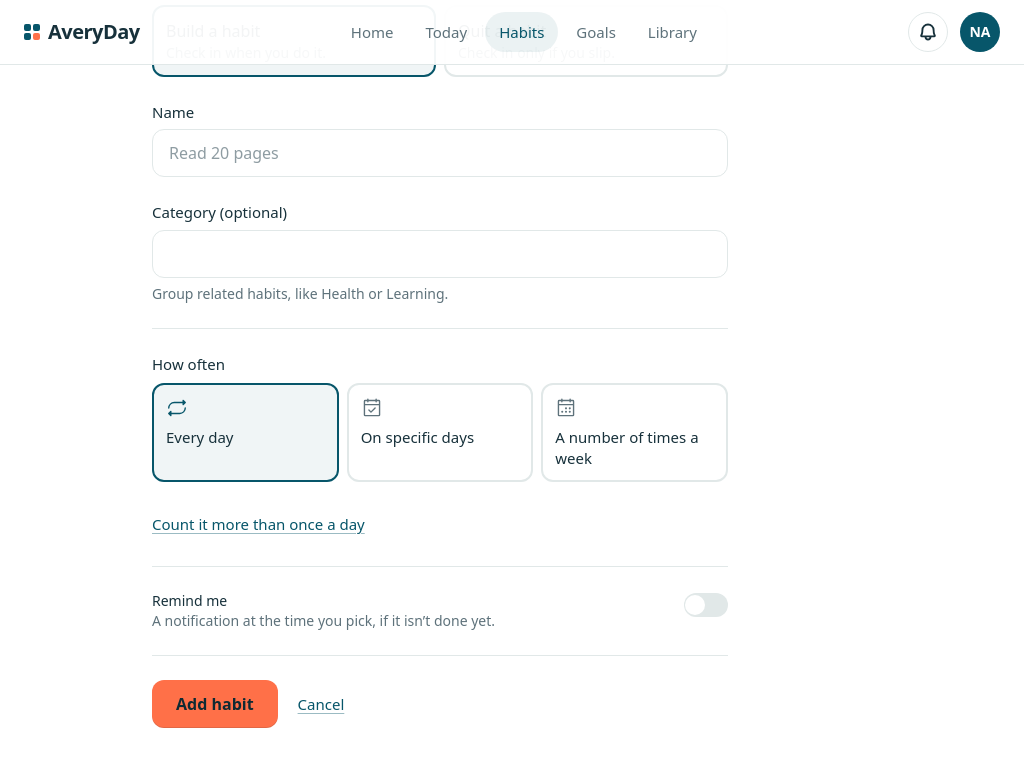
Test case: creating a habit › names the timezone the reminder runs in
The image size is (1024, 768).
(page scrolled)
What coordinates should you click on to do the following:
click the switch named "Remind me"
I would click on:
 (706, 605)
Its box is x1=684 y1=593 x2=728 y2=617.
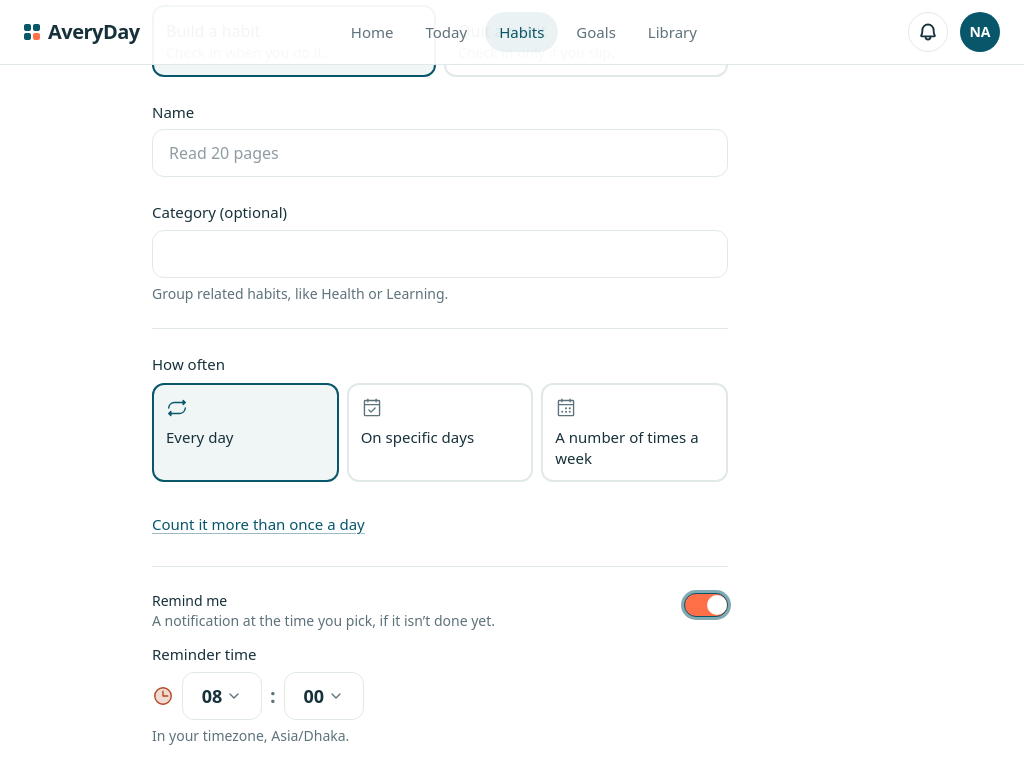
Now the text "In your timezone, Asia/Dhaka." is shown, box x1=152 y1=726 x2=349 y2=745
